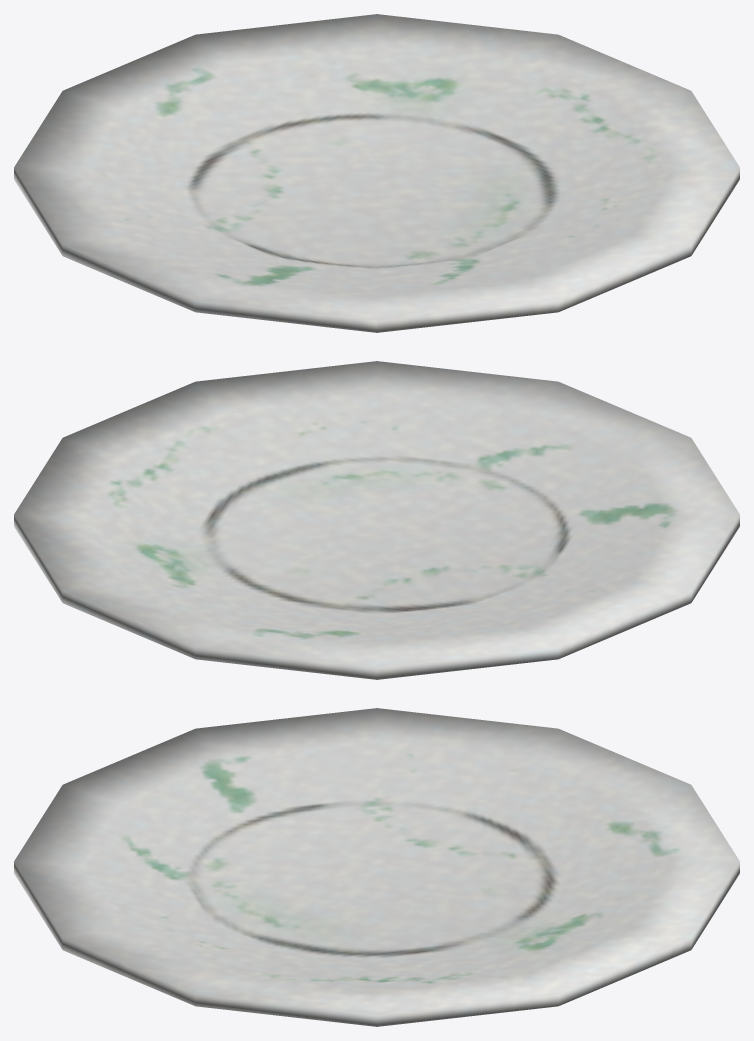
File: dirty_plate.obj
3 views of the same model, one above another, from view 1: azimuth 30°, elevation 25°; view 2: azimuth 150°, elevation 25°; view 3: azimuth 270°, elevation 25° (orthographic).
Visible parts, largest first — view 1: dirty_plate; view 2: dirty_plate; view 3: dirty_plate.
Part boxes in pixels (box(x1,y1,x2,y2)): dirty_plate: box(14, 14, 739, 332); dirty_plate: box(14, 361, 739, 679); dirty_plate: box(14, 708, 739, 1026).
Bounding box in the file's own units: 0.3678 × 0.0217 × 0.3678.
